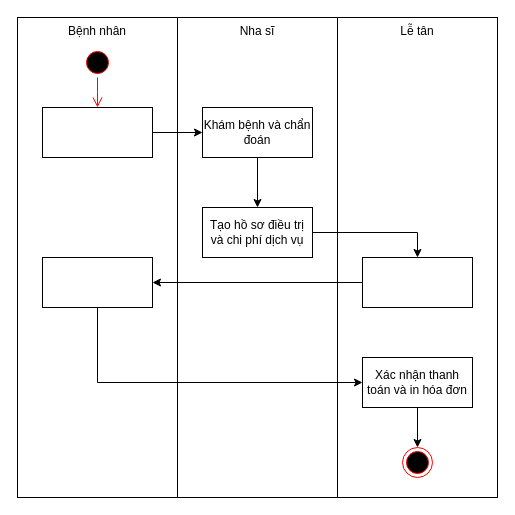
Image size: 515x515. Some labels were removed from this diagram. Each missing label, with the centre of its shape:
Thanh toán chi phí: the point at 97,282
Tạo hóa đơn điều trị: the point at 417,282
Đến phòng khám theo lịch đã đặt: the point at 97,132
